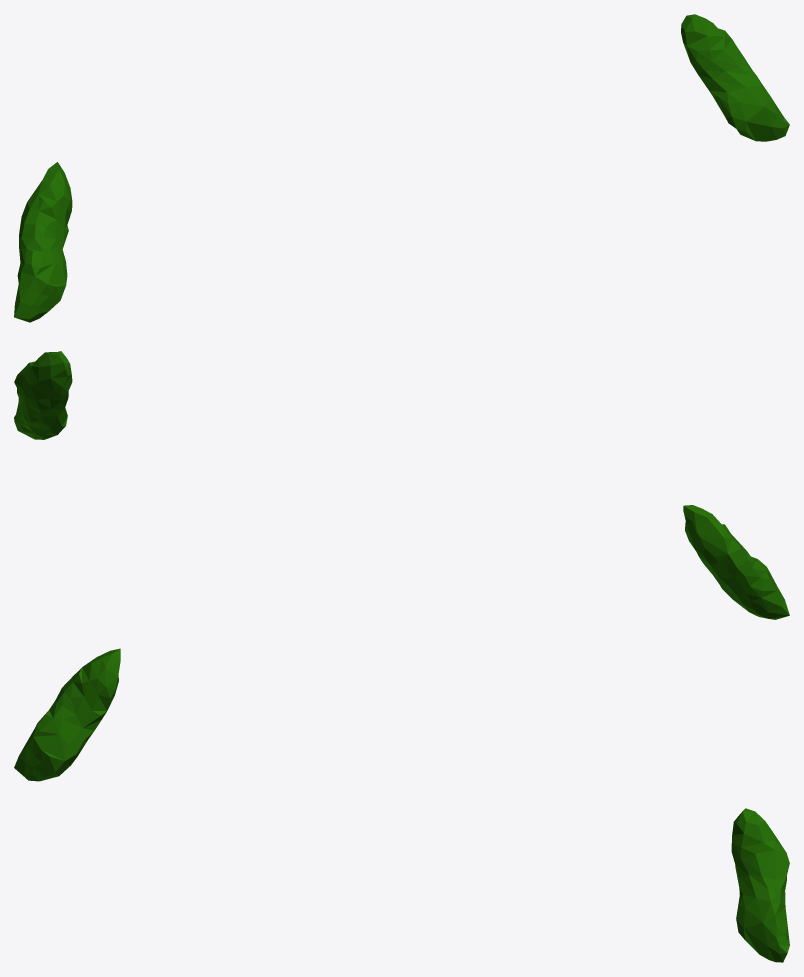
File: 154-ProK-prokoniocortex-('0.1529', '0.4980', '0.0000').obj
The picture shows the model from 3 angles, top to bottom: view 1: azimuth 30°, elevation 25°; view 2: azimuth 150°, elevation 25°; view 3: azimuth 330°, elevation 25°; orthographic projection.
Size of the model in its own units: 261 by 39.54 by 20.5.
